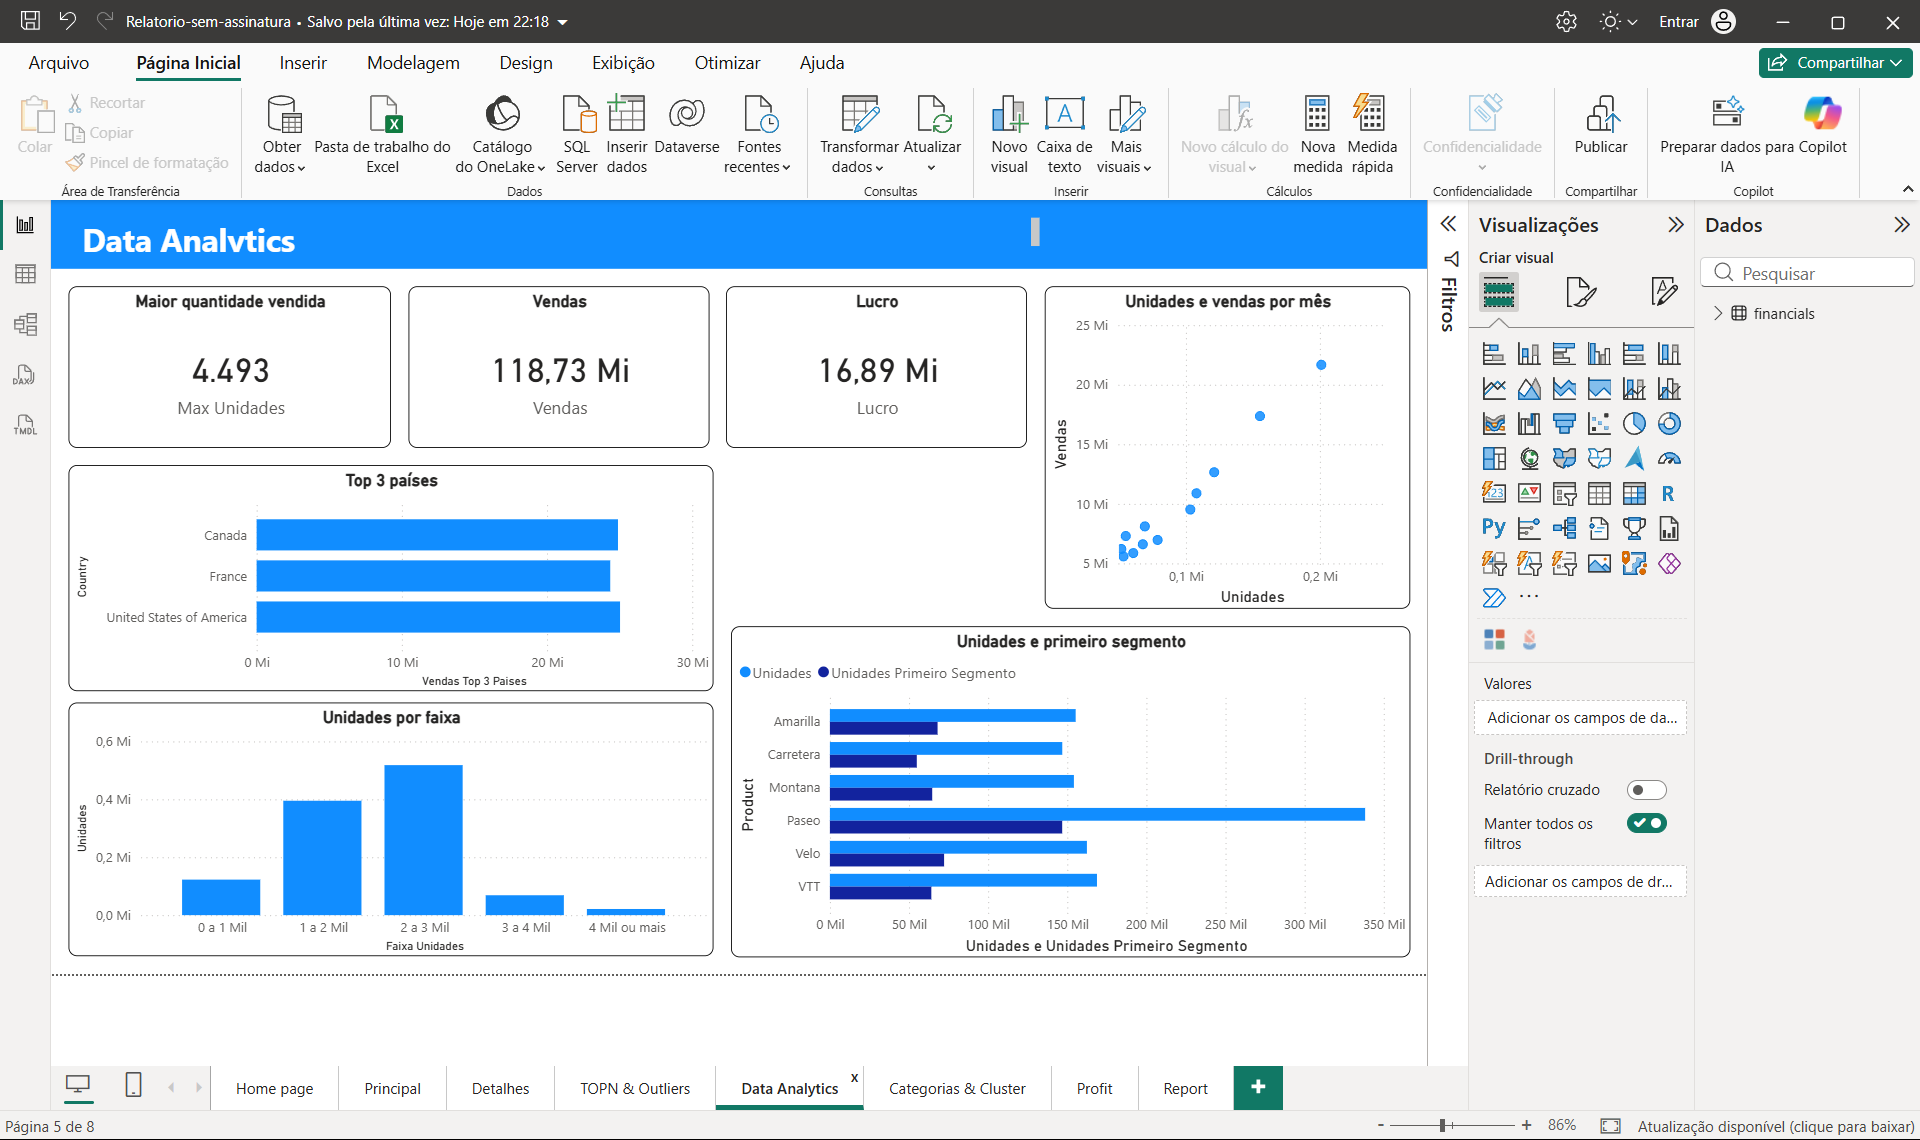

This screenshot's page, from the dashboard's own definition file:
{"tool":"powerbi","page":{"name":"Data Analytics","canvas":[1280,720],"ordinal":4},"visuals":[{"type":"shape","box":[0,0,1280,64],"z":0},{"type":"textbox","box":[24,12,900,42],"z":5},{"type":"card","title":"Maior quantidade vendida","fields":{"Values":["financials.Max Unidades"]},"box":[16,80,300,150],"z":1000},{"type":"card","title":"Vendas","fields":{"Values":["financials.Vendas"]},"box":[332,80,280,150],"z":1000},{"type":"card","title":"Lucro","fields":{"Values":["financials.Lucro"]},"box":[628,80,280,150],"z":1000},{"type":"scatterChart","title":"Unidades e vendas por mês","fields":{"Category":["financials.Month Name"],"X":["financials.Unidades"],"Y":["financials.Vendas"]},"box":[924,80,340,300],"z":1000},{"type":"clusteredBarChart","title":"Top 3 países","fields":{"Category":["financials.Country"],"Y":["financials.Vendas Top 3 Paises"]},"box":[16,246,600,210],"z":1000},{"type":"clusteredBarChart","title":"Unidades e primeiro segmento","fields":{"Category":["financials.Product"],"Y":["financials.Unidades","financials.Unidades Primeiro Segmento"]},"box":[632,396,632,308],"z":1000},{"type":"clusteredColumnChart","title":"Unidades por faixa","fields":{"Category":["financials.Faixa Unidades"],"Y":["financials.Unidades"]},"box":[16,468,600,236],"z":1000}]}

Visuals, with their boxes on the page's 1280x720 design canvas (x1, y1, x2, y2). These are canvas units, not pixel positions in the 1920x1140 screenshot, which may show the page scaled, cropped or inside an application window:
shape: <box>0,0,1280,64</box>
textbox: <box>24,12,924,54</box>
"Maior quantidade vendida" card: <box>16,80,316,230</box>
"Vendas" card: <box>332,80,612,230</box>
"Lucro" card: <box>628,80,908,230</box>
"Unidades e vendas por mês" scatterChart: <box>924,80,1264,380</box>
"Top 3 países" clusteredBarChart: <box>16,246,616,456</box>
"Unidades e primeiro segmento" clusteredBarChart: <box>632,396,1264,704</box>
"Unidades por faixa" clusteredColumnChart: <box>16,468,616,704</box>
